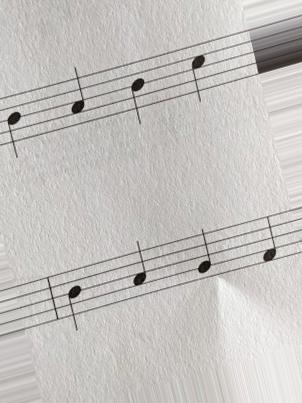A: (125, 234, 154, 307), (65, 62, 92, 128)
B: (124, 61, 152, 132), (3, 95, 33, 161), (60, 269, 89, 336)
F: (254, 212, 282, 269)
G: (189, 226, 219, 282)
HC: (182, 42, 211, 108)
